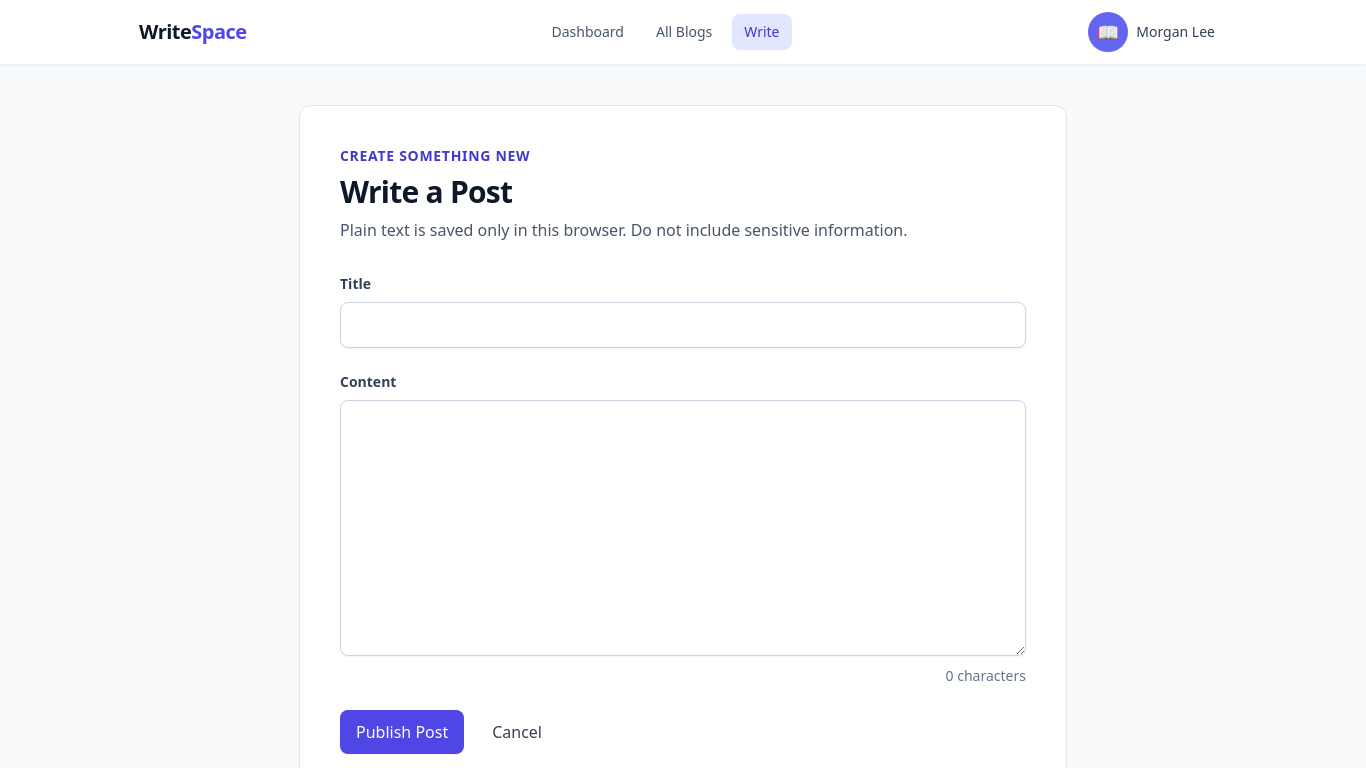
Test case: WriteBlog create mode › cancels creation to blogs without saving
Type "Discard me" into the field labelled "Title".
click(683, 325); type("Discard me")  # box [340,302,1026,348]
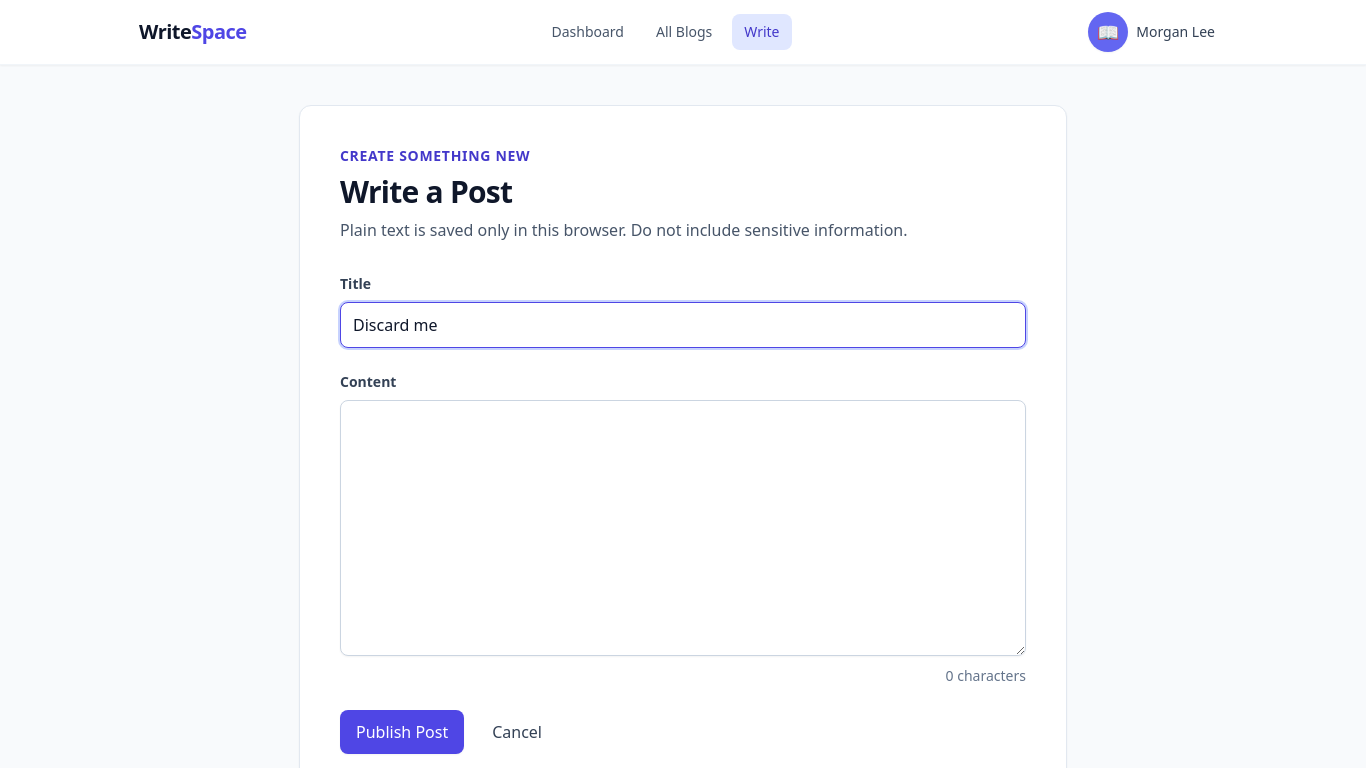
Click the button "Cancel".
click(517, 732)  # box [476,710,558,754]
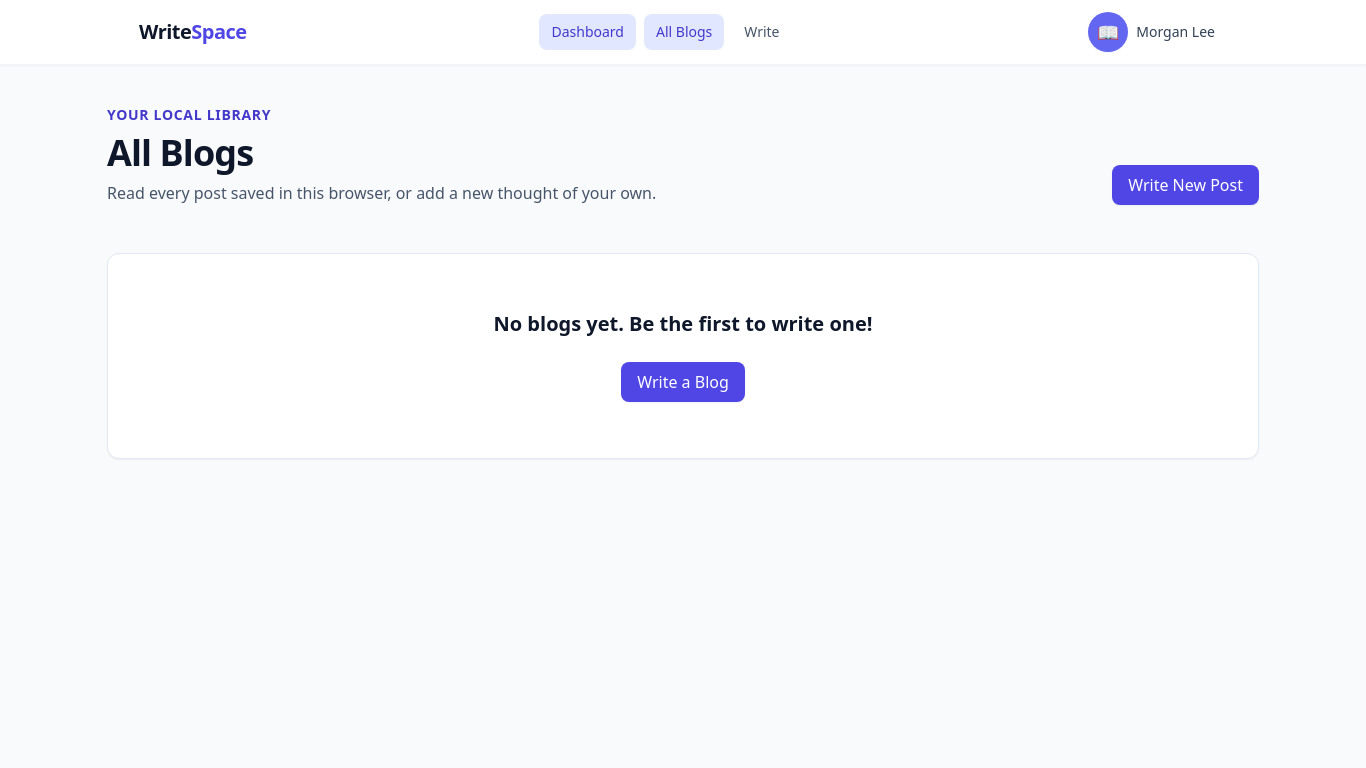
Now the heading "All Blogs" is shown, box [107,128,253,177]
